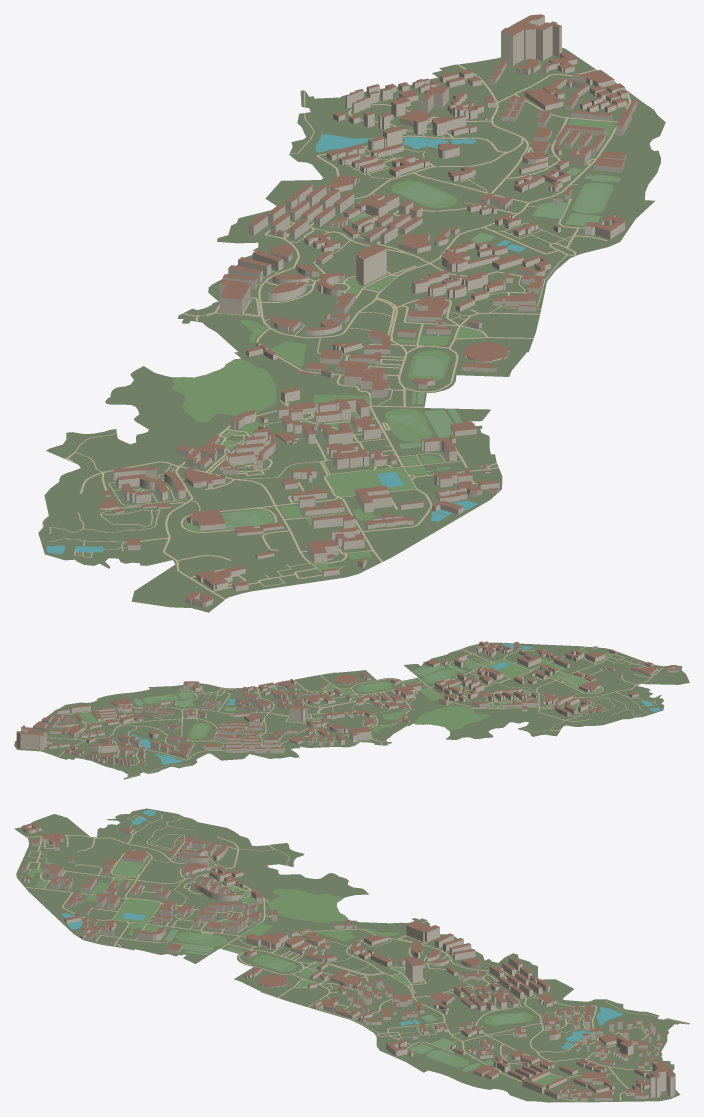
3 views of the same model, one above another, from view 1: azimuth 30°, elevation 25°; view 2: azimuth 150°, elevation 25°; view 3: azimuth 270°, elevation 25° (orthographic). The views are drawn at different scales.
Parts seen in each view (by area): view 1: campus-ground, buildings, environment (×4), roofs; view 2: campus-ground, buildings, environment (×4), roofs; view 3: campus-ground, environment (×4), buildings, roofs.
Part boxes in pixels (<box>): campus-ground: <box>38,47,665,612</box>; buildings: <box>97,16,636,607</box>; environment (×4): <box>38,64,631,599</box>; roofs: <box>97,14,636,602</box>; campus-ground: <box>14,642,689,779</box>; buildings: <box>16,642,678,766</box>; environment (×4): <box>41,643,664,778</box>; roofs: <box>17,641,678,763</box>; campus-ground: <box>14,808,689,1102</box>; environment (×4): <box>25,809,688,1102</box>; buildings: <box>22,825,675,1101</box>; roofs: <box>22,823,675,1097</box>.
Size of the model in its own units: 2319 by 72.8 by 2252.
